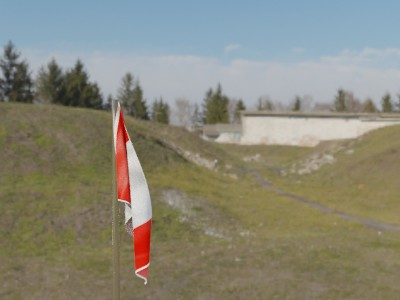Canada flag: (113, 100, 160, 285)
